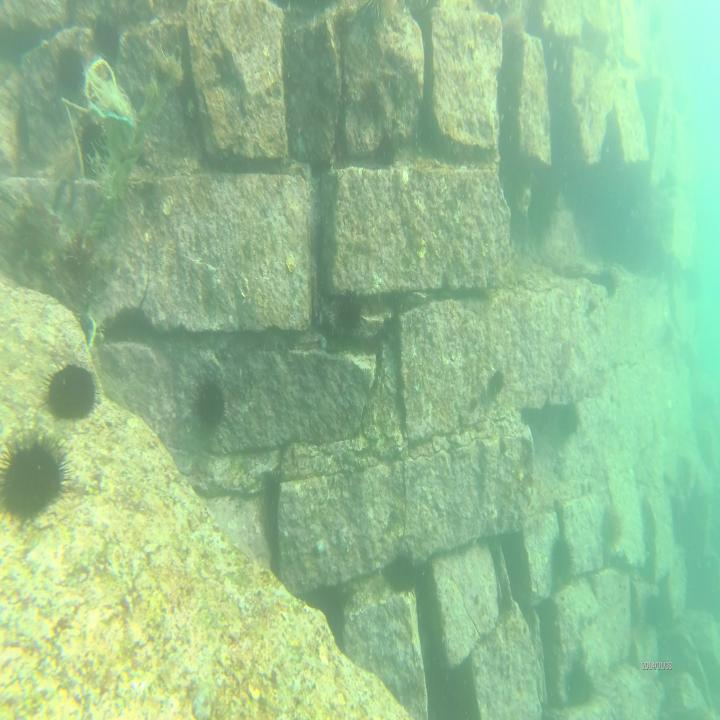echinus: (0, 429, 74, 524), (41, 355, 102, 421), (189, 376, 231, 432), (382, 545, 420, 596), (566, 658, 597, 710), (644, 590, 676, 634), (337, 287, 361, 338), (549, 529, 572, 582), (600, 509, 624, 554), (374, 129, 397, 168), (599, 262, 621, 296), (490, 361, 506, 394)
